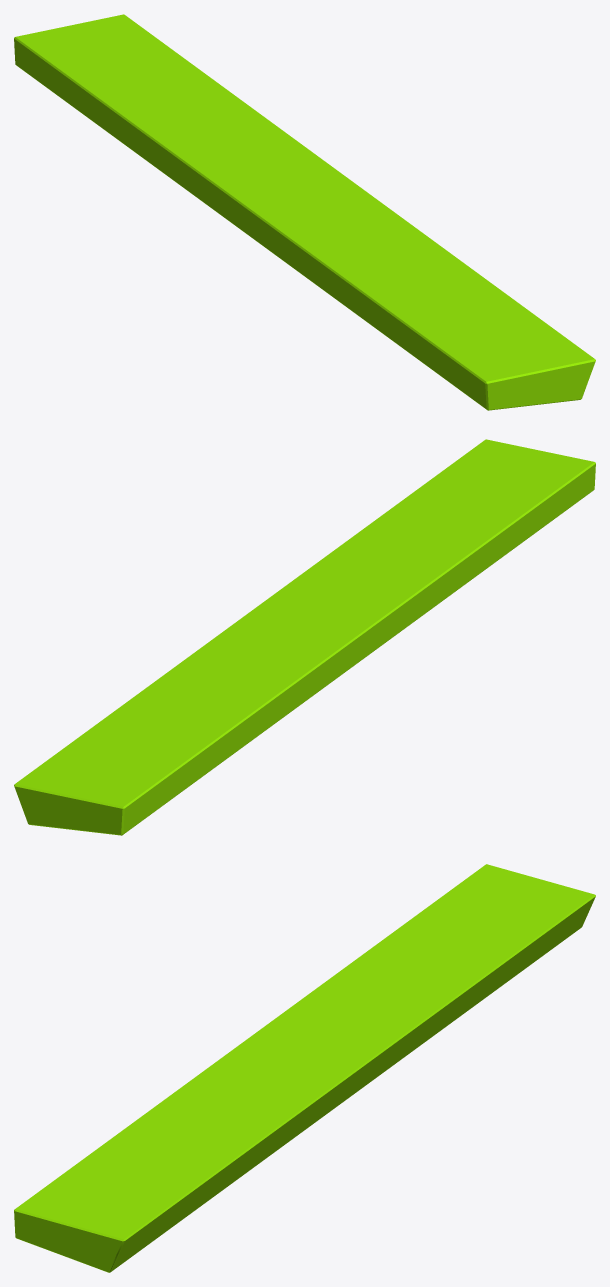
Rendered from Wide_Backbox_Base.fbx.
3 views of the same model, one above another, from view 1: azimuth 30°, elevation 25°; view 2: azimuth 150°, elevation 25°; view 3: azimuth 330°, elevation 25° (orthographic).
Parts seen in each view (by area): view 1: Wide_Backbox_Base; view 2: Wide_Backbox_Base; view 3: Wide_Backbox_Base.
Part boxes in pixels (<box>): Wide_Backbox_Base: <box>14,14,595,410</box>; Wide_Backbox_Base: <box>14,439,595,835</box>; Wide_Backbox_Base: <box>14,864,595,1272</box>.
Size of the model in its own units: 9.4 by 3.31 by 69.43.
